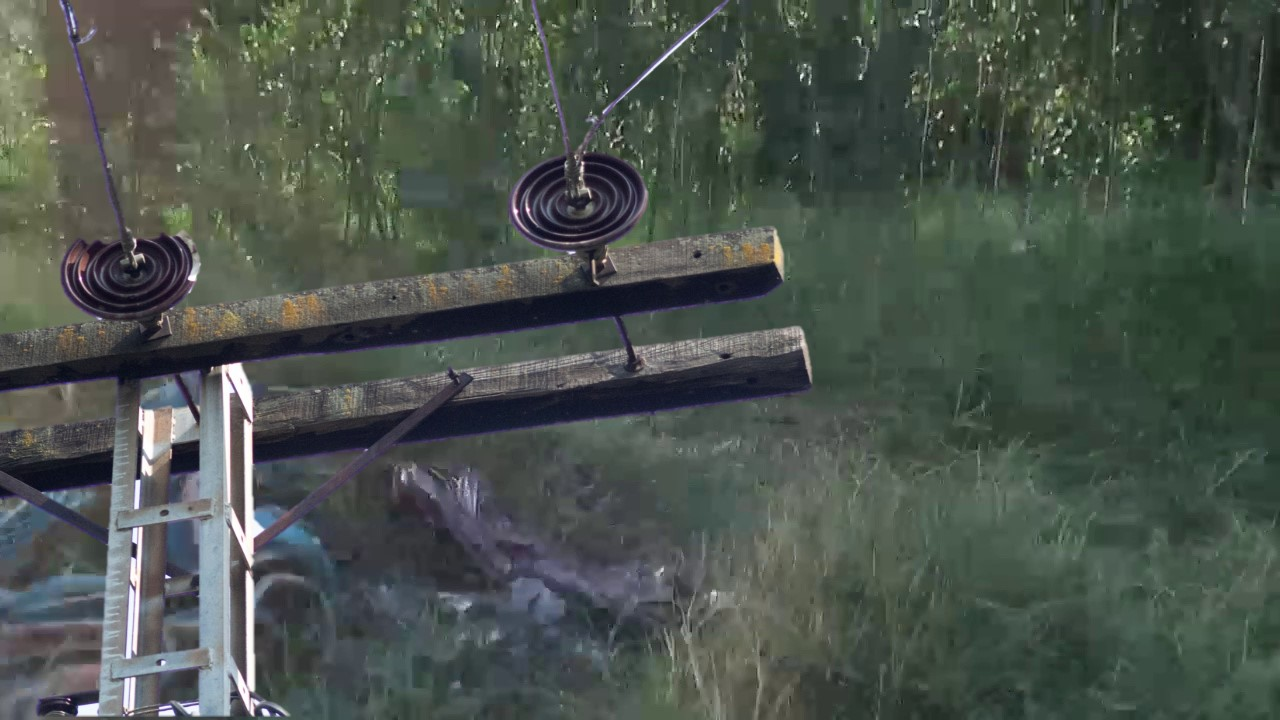defect_disc: (58, 227, 208, 321)
insulator_disc: (505, 151, 652, 255)
